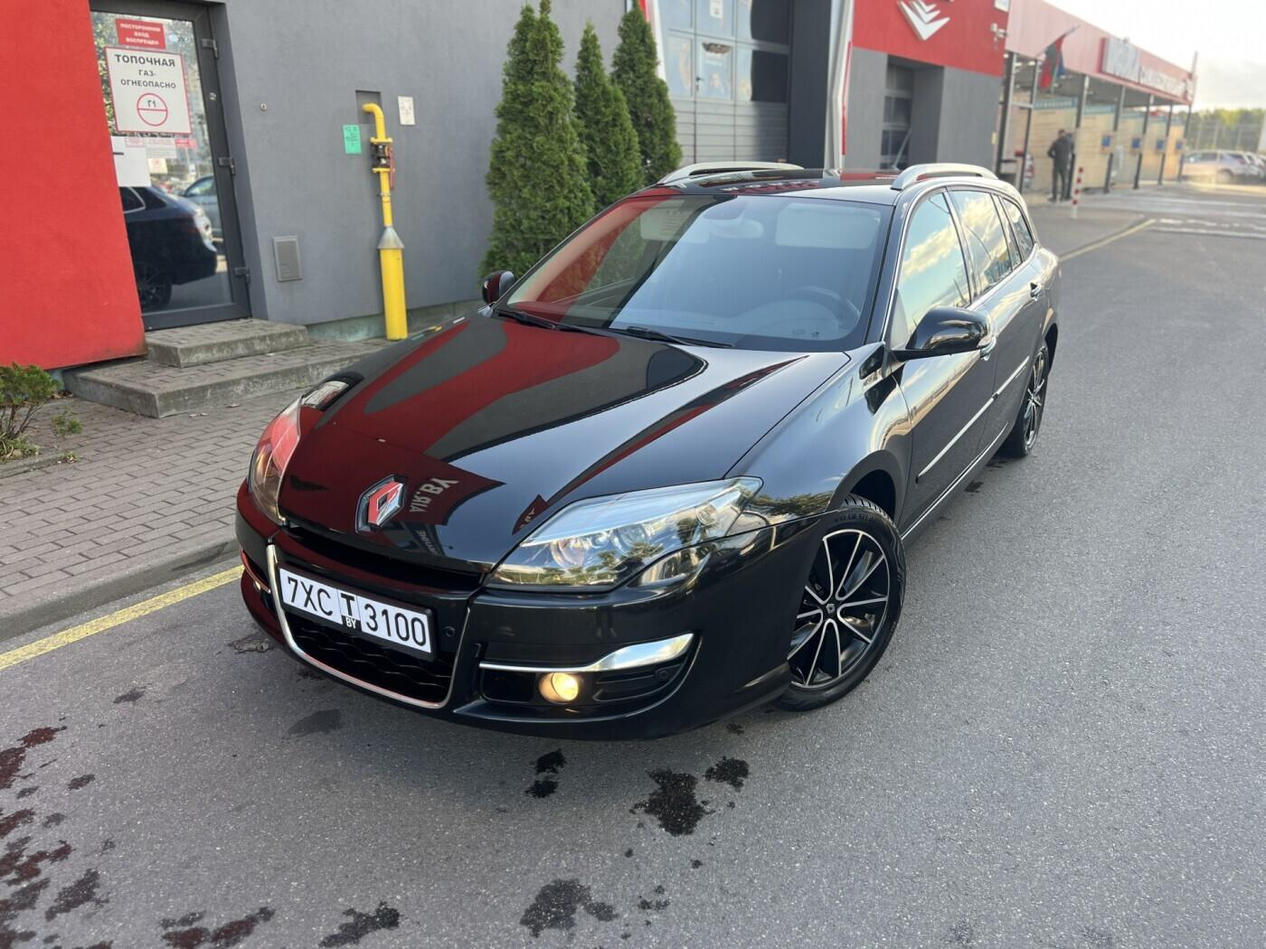Laguna_2010-2015: (236, 154, 1054, 754)
